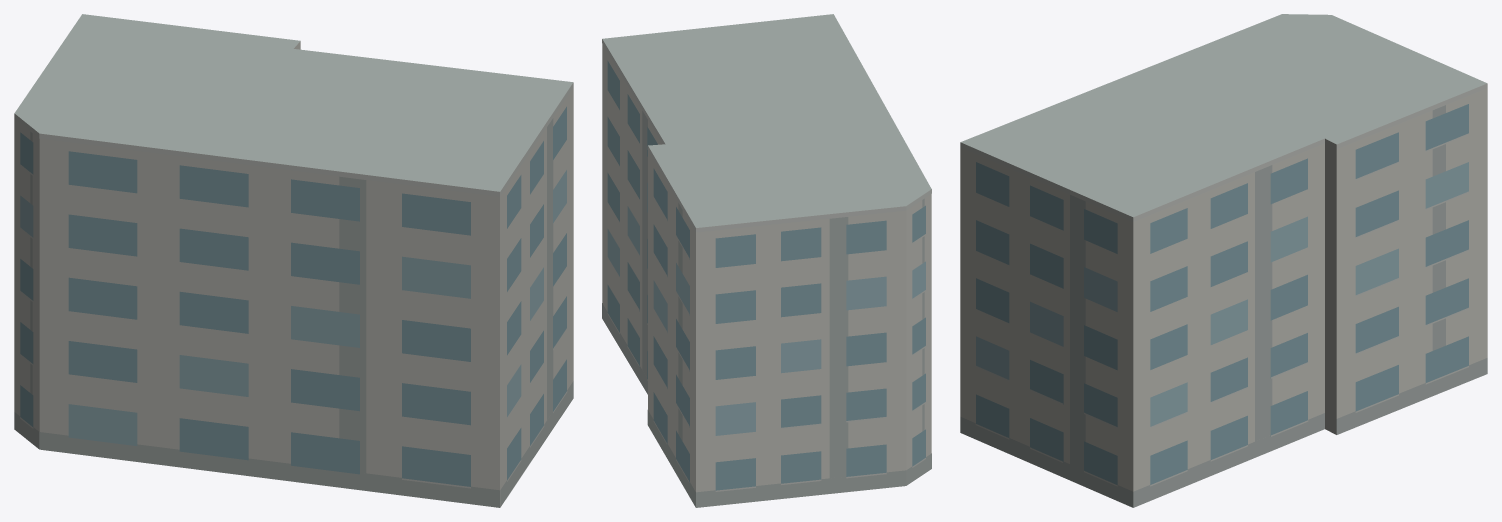
Rendered from survey-upis-32563163.glb.
3 views of the same model, side by side, from view 1: azimuth 30°, elevation 25°; view 2: azimuth 150°, elevation 25°; view 3: azimuth 270°, elevation 25° (orthographic). The views are drawn at different scales.
Parts seen in each view (by area): view 1: survey-upis-32563163.tmp; view 2: survey-upis-32563163.tmp; view 3: survey-upis-32563163.tmp.
Boxes of the visible parts, x1,y1,x2,y2 form: survey-upis-32563163.tmp: [14, 14, 573, 507]; survey-upis-32563163.tmp: [602, 14, 931, 507]; survey-upis-32563163.tmp: [960, 14, 1487, 507].
Size of the model in its own units: 22.22 by 14.8 by 24.34.
